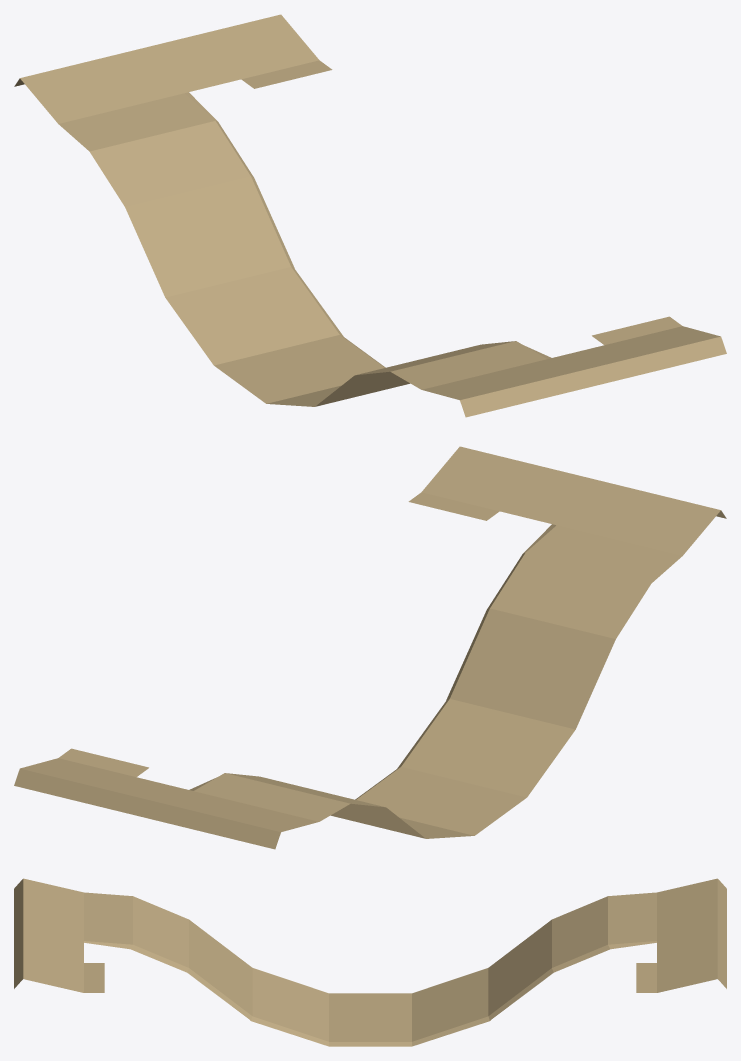
The model's file is Groundpiece_Pipe_Left_Sewer_Environment.FBX.
The picture shows the model from 3 angles, top to bottom: view 1: azimuth 30°, elevation 25°; view 2: azimuth 150°, elevation 25°; view 3: azimuth 270°, elevation 25°; orthographic projection. The views are drawn at different scales.
Visible parts, largest first — view 1: Bodenpiece_Rohr_Links; view 2: Bodenpiece_Rohr_Links; view 3: Bodenpiece_Rohr_Links.
Part boxes in pixels (box(x1,y1,x2,y2)): Bodenpiece_Rohr_Links: box(14, 14, 726, 417); Bodenpiece_Rohr_Links: box(14, 446, 726, 849); Bodenpiece_Rohr_Links: box(14, 878, 726, 1046).
Bounding box in the file's own units: 100 × 54.56 × 299.
